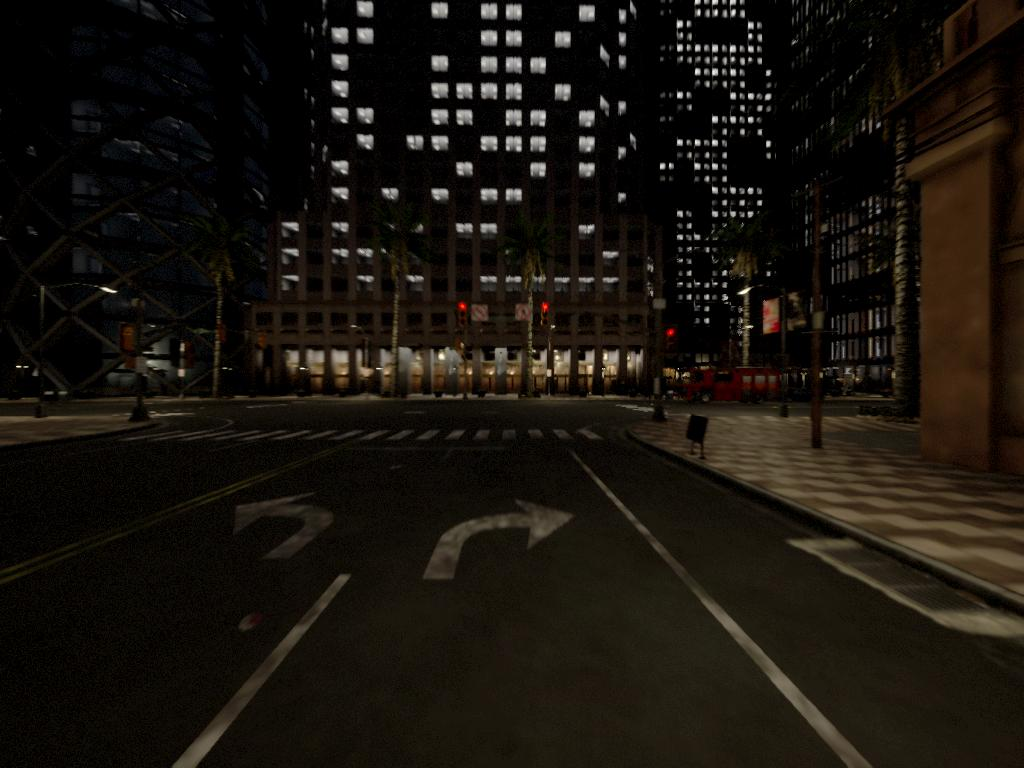traffic_light: (456, 303, 470, 327), (665, 327, 679, 350), (540, 304, 552, 328)
